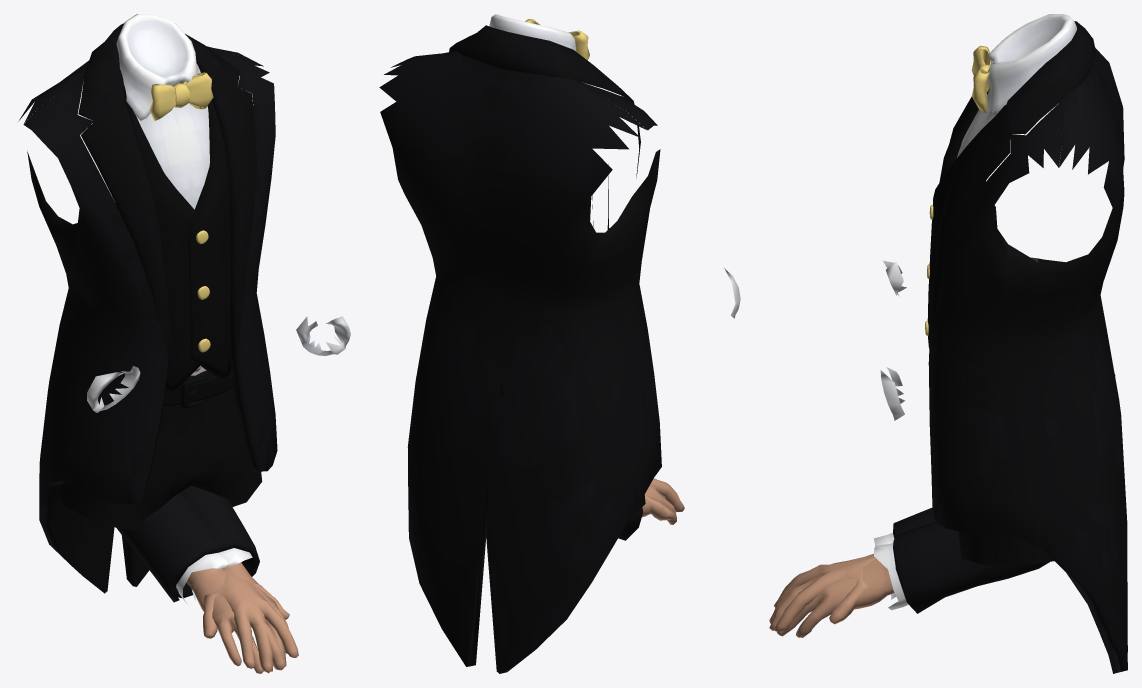
The model's file is vip_dealer.glb.
3 renders of one model, left to right at view 1: azimuth 30°, elevation 25°; view 2: azimuth 150°, elevation 25°; view 3: azimuth 270°, elevation 25°, orthographic. The views are drawn at different scales.
Parts seen in each view (by area): view 1: Dealer_Torso, Dealer_LeftArm, Dealer_RightArm; view 2: Dealer_Torso, Dealer_RightArm, Dealer_LeftArm; view 3: Dealer_Torso, Dealer_RightArm, Dealer_LeftArm.
Boxes of the visible parts, box(x1,y1,x2,y2) form: Dealer_Torso: box(18, 14, 350, 593); Dealer_LeftArm: box(117, 493, 298, 673); Dealer_RightArm: box(180, 486, 288, 673); Dealer_Torso: box(379, 14, 740, 673); Dealer_RightArm: box(500, 385, 684, 520); Dealer_LeftArm: box(480, 388, 676, 540); Dealer_Torso: box(880, 14, 1127, 673); Dealer_RightArm: box(769, 368, 1115, 637); Dealer_LeftArm: box(769, 507, 935, 632).
Size of the model in its own units: 0.4888 by 1.07 by 0.5373.
Materials: 9 (4 with a texture image).
